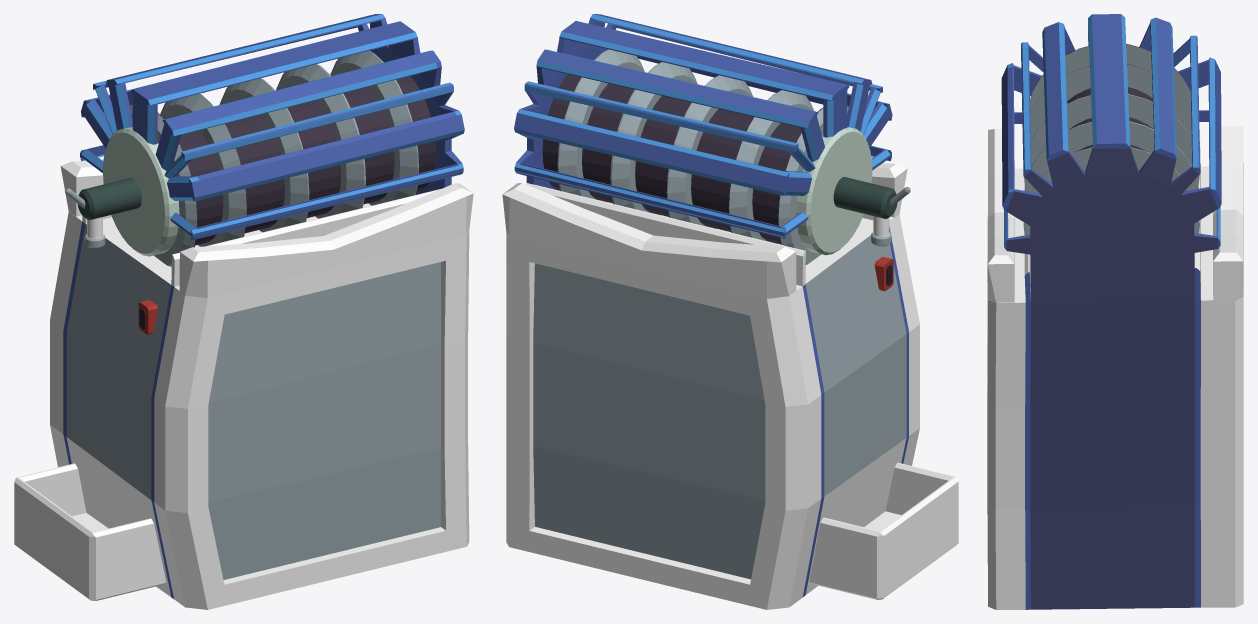
File: MaszynaDoLodow.v2.fbx
3 renders of one model, left to right at view 1: azimuth 30°, elevation 25°; view 2: azimuth 150°, elevation 25°; view 3: azimuth 270°, elevation 25°, orthographic.
Parts seen in each view (by area): view 1: MaszynaDoLodow.v2; view 2: MaszynaDoLodow.v2; view 3: MaszynaDoLodow.v2.
Boxes of the visible parts, left/top/right/bottom form: MaszynaDoLodow.v2: left=14, top=14, right=473, bottom=609; MaszynaDoLodow.v2: left=502, top=14, right=958, bottom=609; MaszynaDoLodow.v2: left=987, top=14, right=1243, bottom=609.
Bounding box in the file's own units: 227 × 287 × 143.
